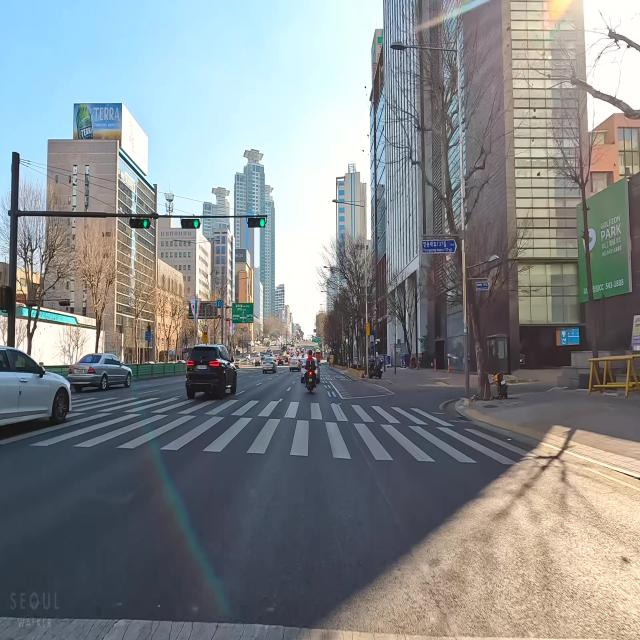Green Light: (193, 219, 200, 229), (260, 217, 265, 227), (143, 219, 148, 229)
